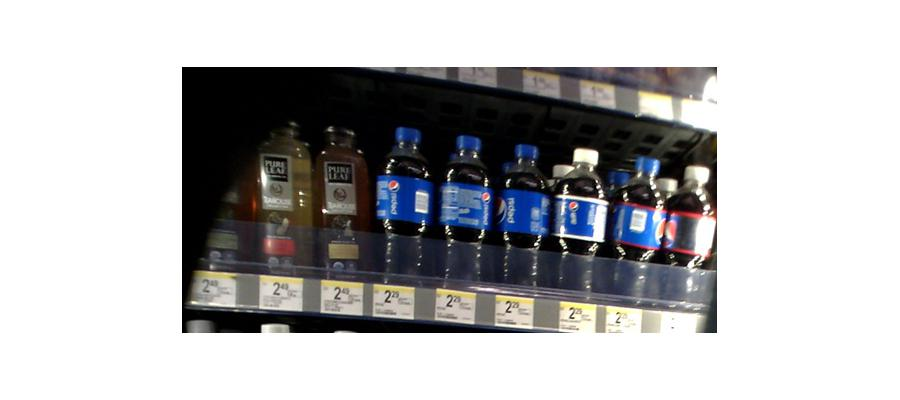bottle: (373, 125, 433, 283), (257, 115, 313, 275), (438, 135, 493, 290), (495, 143, 548, 291), (555, 146, 606, 299), (318, 125, 369, 278), (661, 160, 712, 305), (612, 151, 657, 304), (197, 159, 249, 271)
